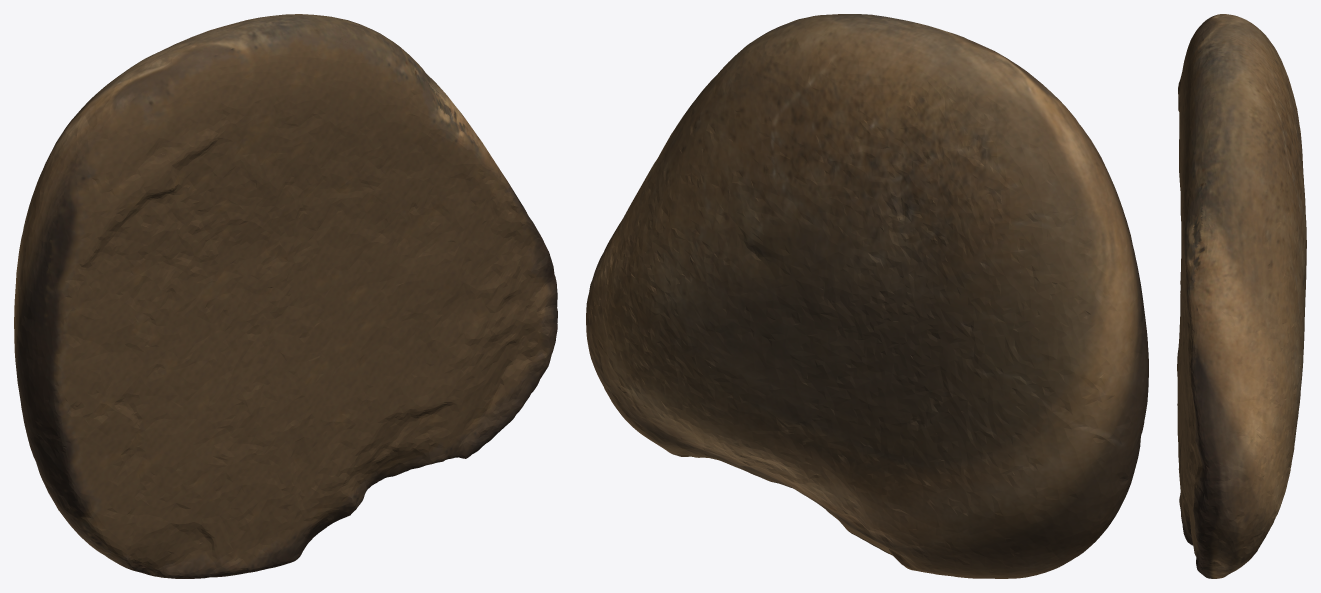
Rendered from kfc011.obj.
The picture shows the model from 3 angles, left to right: view 1: azimuth 30°, elevation 25°; view 2: azimuth 150°, elevation 25°; view 3: azimuth 270°, elevation 25°; orthographic projection. The views are drawn at different scales.
Bounding box in the file's own units: 61.91 × 59.21 × 14.24.
